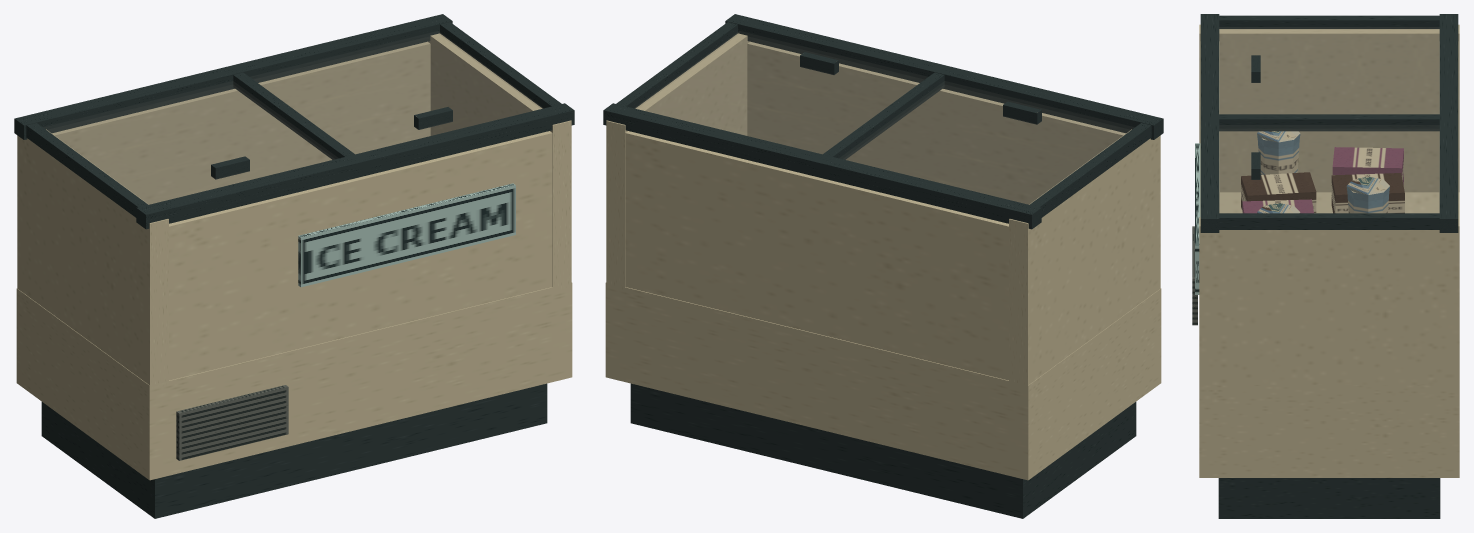
File: IceCreamFreezer.fbx
3 views of the same model, side by side, from view 1: azimuth 30°, elevation 25°; view 2: azimuth 150°, elevation 25°; view 3: azimuth 270°, elevation 25° (orthographic). The views are drawn at different scales.
Visible parts, largest first — view 1: IceCreamFreezer_Body, IceCreamFreezer_Glass; view 2: IceCreamFreezer_Body, IceCreamFreezer_Glass; view 3: IceCreamFreezer_Body, IceCreamFreezer_Glass.
Part boxes in pixels (box(x1,y1,x2,y2)): IceCreamFreezer_Body: box(14, 14, 574, 518); IceCreamFreezer_Glass: box(47, 31, 542, 204); IceCreamFreezer_Body: box(603, 14, 1163, 518); IceCreamFreezer_Glass: box(635, 31, 1130, 204); IceCreamFreezer_Body: box(1192, 14, 1459, 518); IceCreamFreezer_Glass: box(1219, 27, 1439, 212).
Size of the model in its own units: 114 by 80.95 by 62.65.
